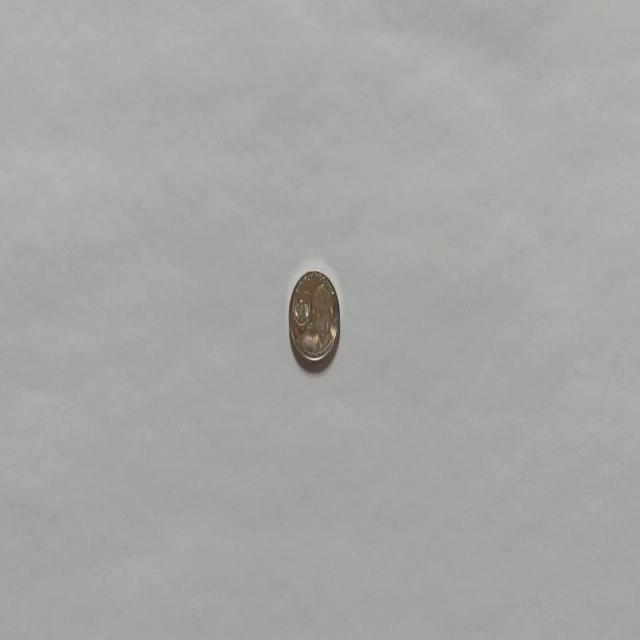dua ratus rupiah: (288, 268, 340, 370)
